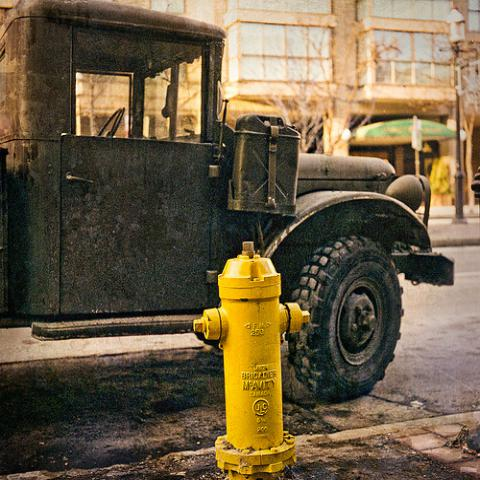truck: (0, 1, 457, 404)
